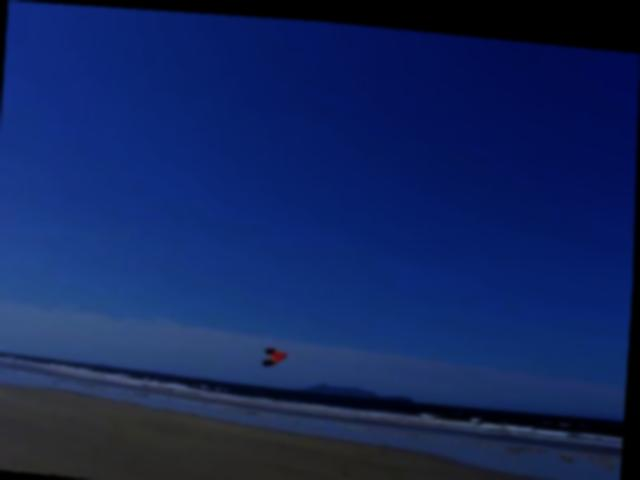flying wing: (263, 342, 291, 367)
